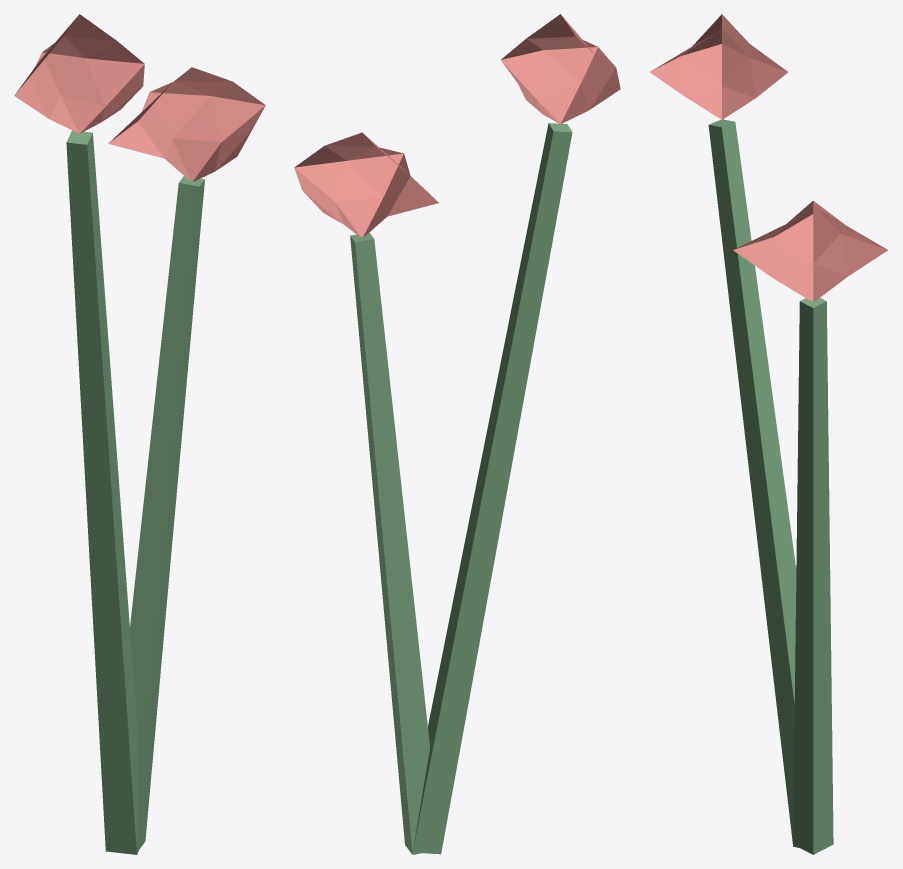
File: flower_v04.glb
The picture shows the model from 3 angles, left to right: view 1: azimuth 30°, elevation 25°; view 2: azimuth 150°, elevation 25°; view 3: azimuth 270°, elevation 25°; orthographic projection. The views are drawn at different scales.
Visible parts, largest first — view 1: lod0; view 2: lod0; view 3: lod0.
Boxes of the visible parts, x1=… form: lod0: x1=14, y1=14, x2=265, y2=854; lod0: x1=294, y1=14, x2=620, y2=854; lod0: x1=650, y1=14, x2=887, y2=854.
Size of what is drawn, in the model's own units: 0.2748 by 0.7743 by 0.2121.
